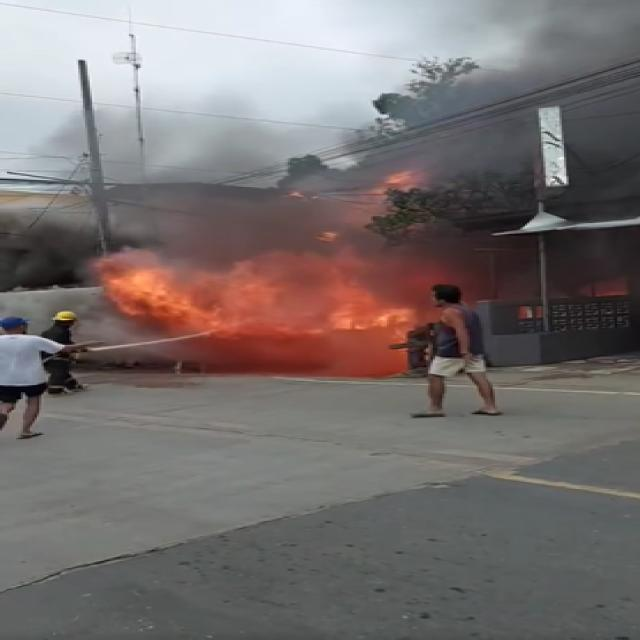Fire: (127, 268, 400, 368)
Smoke: (345, 9, 640, 246), (94, 146, 346, 288)
